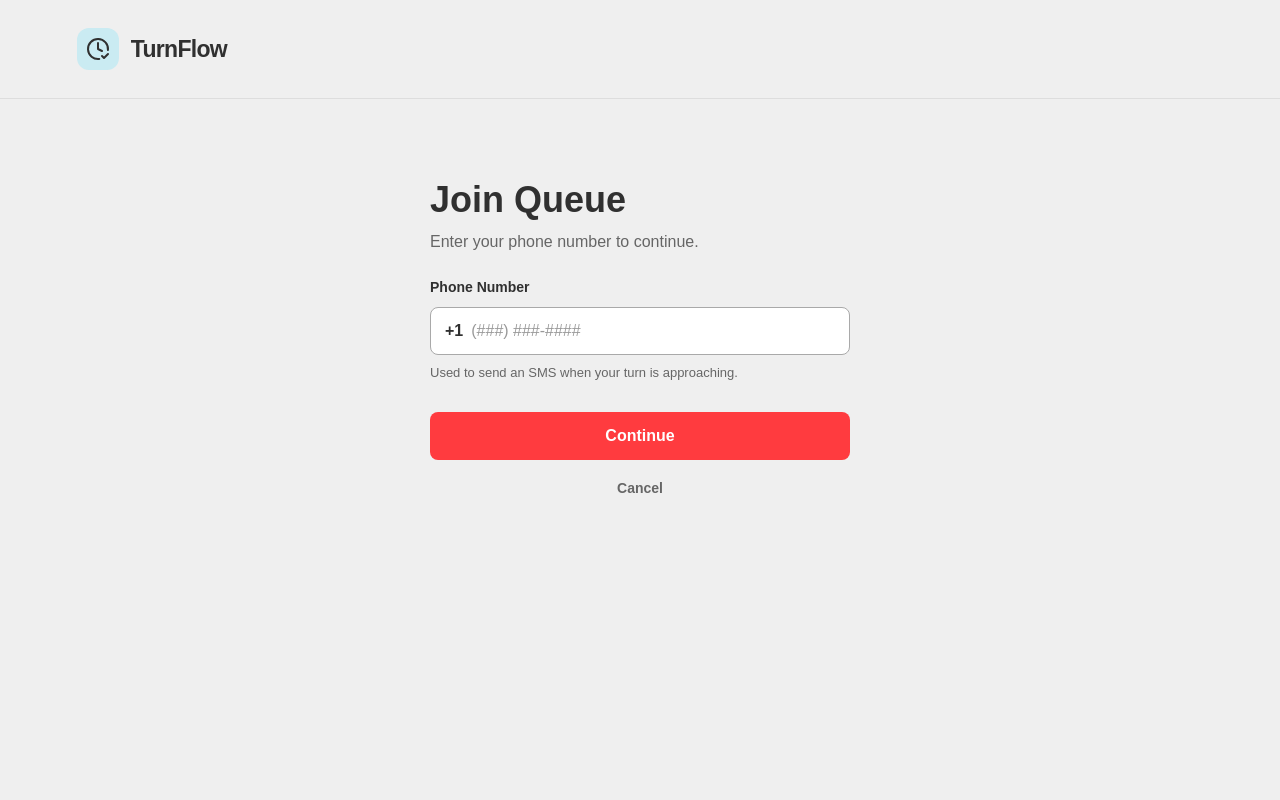
Test: CustomerJoinDetails › uses a demo ticket when customer registration fails
Type "7871234567" into the field labelled "Phone Number" at (656, 331), box [463,308,849,354]
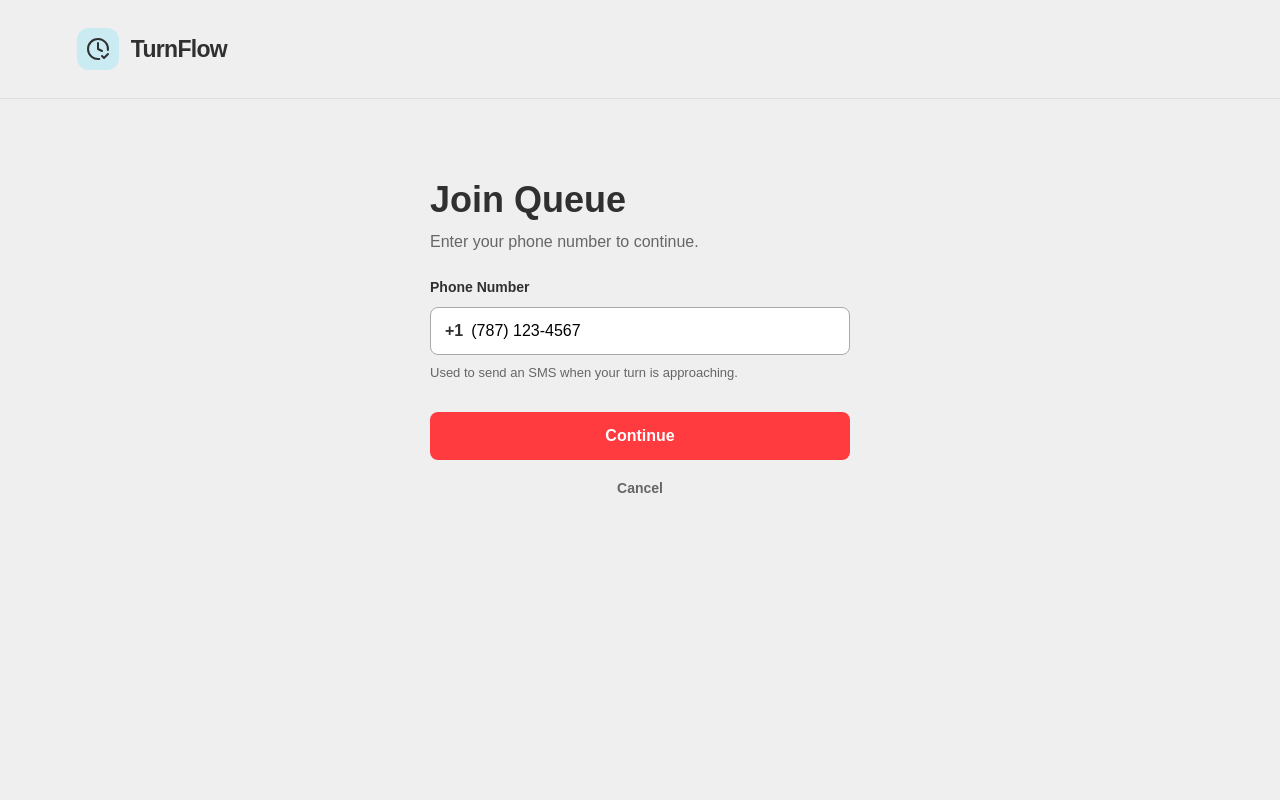
Click the button "Continue" at (640, 436), box [430,412,850,460]
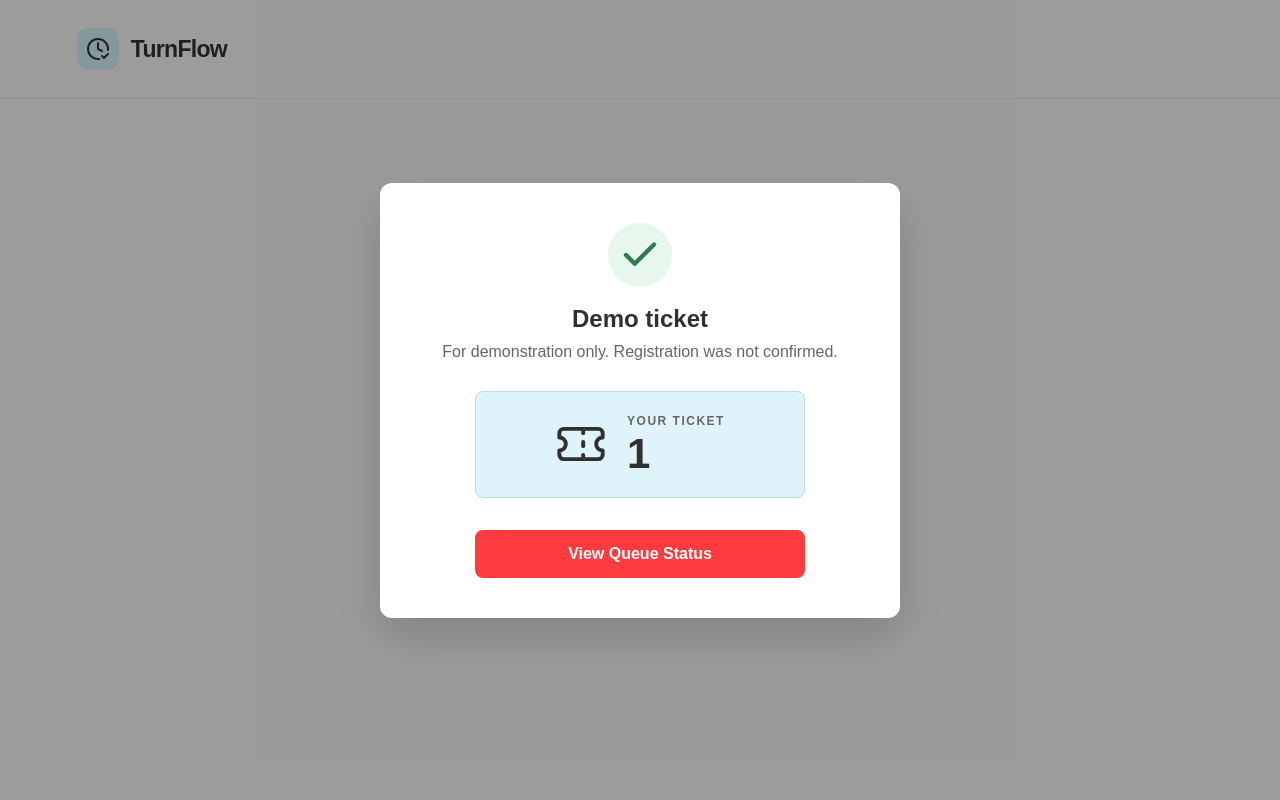
Expected: the dialog "Demo ticket" is shown, [380,182,900,618]
Expected: the text "1" is shown, [627,432,650,474]
Expected: the text "For demonstration only. Registration was not confirmed." is shown, [420,342,860,360]
